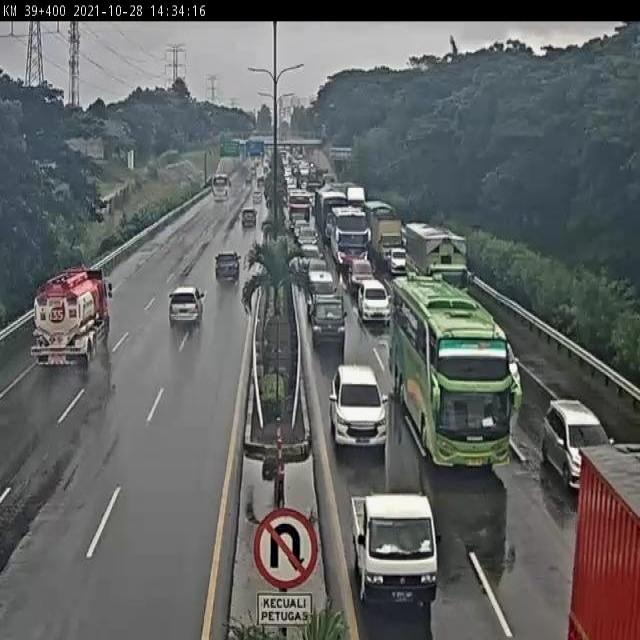Bus: (385, 273, 522, 478), (331, 203, 370, 265), (286, 192, 313, 227), (209, 170, 232, 205)
Car: (541, 396, 611, 486), (326, 362, 392, 457), (356, 277, 392, 325), (165, 285, 202, 330), (343, 251, 376, 292), (215, 247, 240, 284), (387, 245, 408, 272), (240, 207, 258, 230), (249, 188, 265, 207)
Truck: (557, 443, 639, 640), (349, 481, 439, 611), (26, 261, 116, 378), (404, 221, 476, 287), (371, 203, 403, 262)
